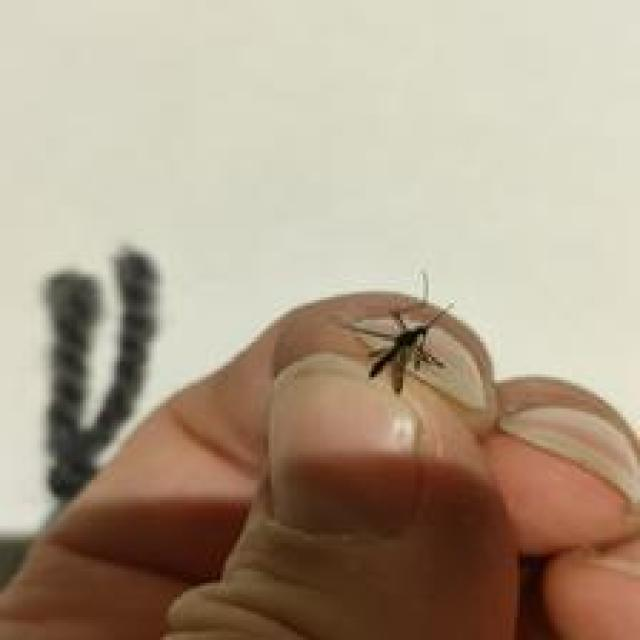Aedes albopictus: (40, 243, 160, 503)
